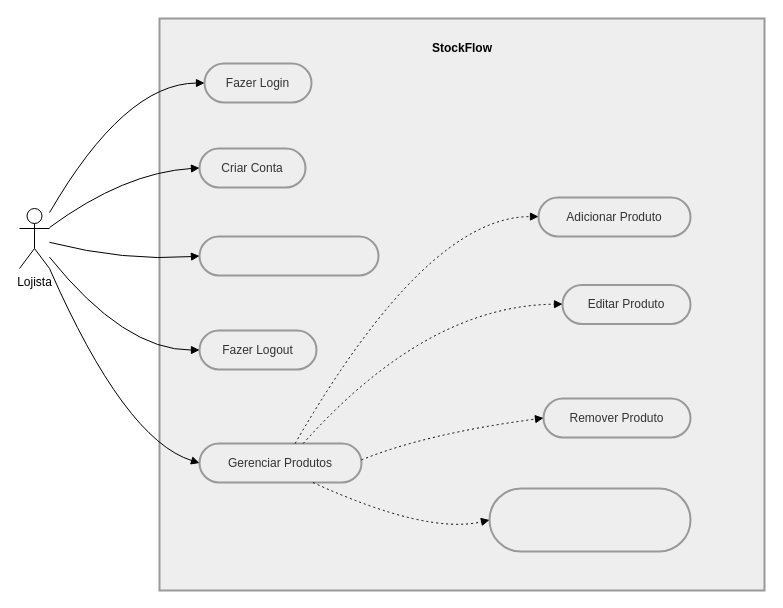
Image size: 783x608. Some labels were removed from this diagram. Here are the shapes that lost their labels. From the top down, the centre of each, then its label:
(x=288, y=255): Visualizar Estatísticas
(x=589, y=519): Ajustar Quantidade em Estoque
